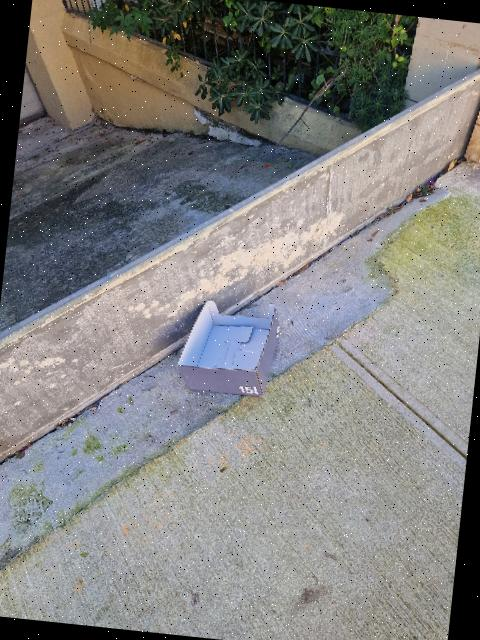Other: (177, 300, 279, 397)
